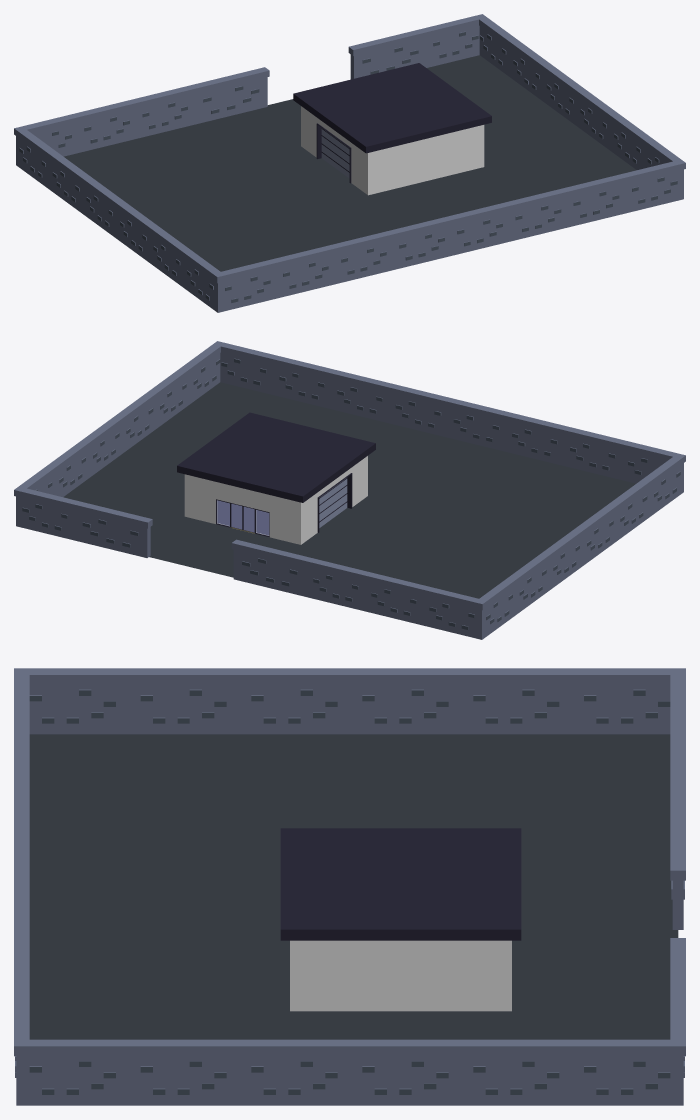
File: office.glb
3 renders of one model, top to bottom at view 1: azimuth 30°, elevation 25°; view 2: azimuth 150°, elevation 25°; view 3: azimuth 270°, elevation 25°, orthographic. The views are drawn at different scales.
Visible parts, largest first — view 1: Cube.001, Plane, Cube; view 2: Cube.001, Plane, Cube; view 3: Plane, Cube.001, Cube.
Boxes of the visible parts, left/top/right/bottom form: Cube.001: left=14, top=14, right=685, bottom=312; Plane: left=64, top=55, right=636, bottom=271; Cube: left=293, top=63, right=491, bottom=195; Cube.001: left=14, top=341, right=685, bottom=639; Plane: left=63, top=382, right=635, bottom=598; Cube: left=177, top=412, right=375, bottom=544; Plane: left=29, top=734, right=678, bottom=1039; Cube.001: left=14, top=668, right=685, bottom=1105; Cube: left=280, top=828, right=521, bottom=1011.
Size of the model in its own units: 80.6 by 8.51 by 60.6.
3 materials, 2 textured.
